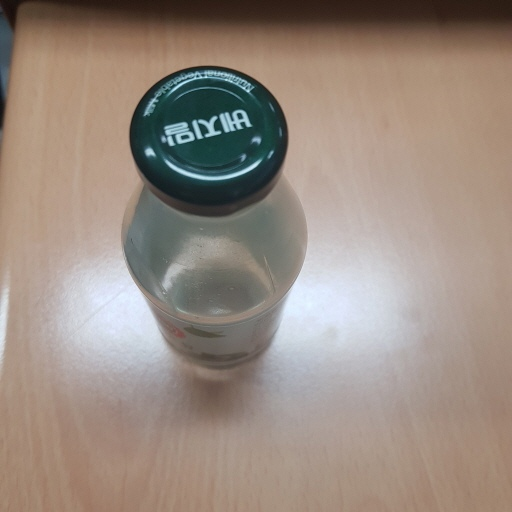Glass_4: (120, 69, 313, 382)
